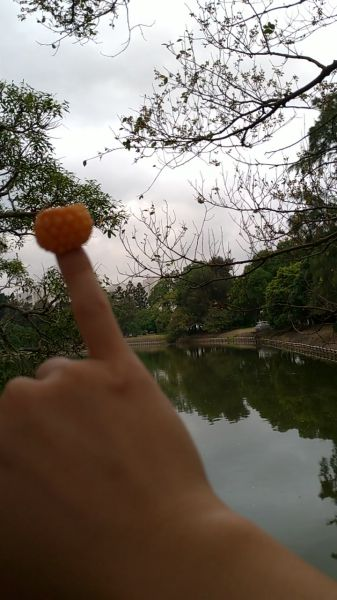eggs: (34, 205, 92, 252)
